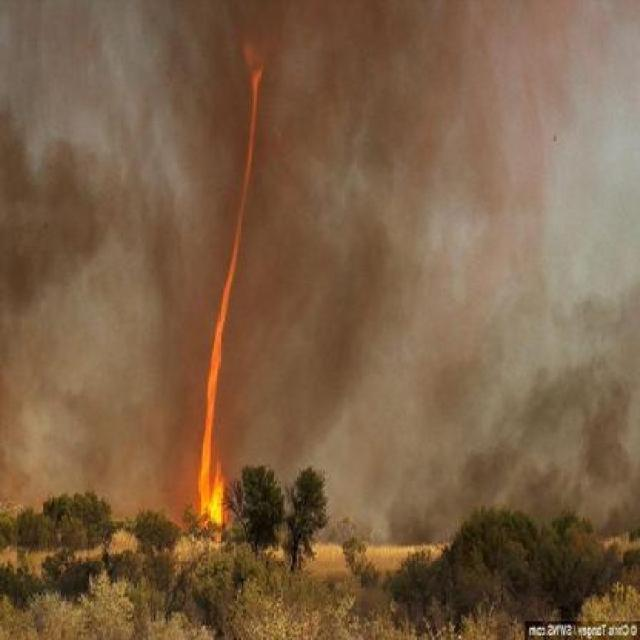Fire: (186, 29, 272, 542)
Smoke: (280, 4, 610, 480), (4, 6, 190, 505)
